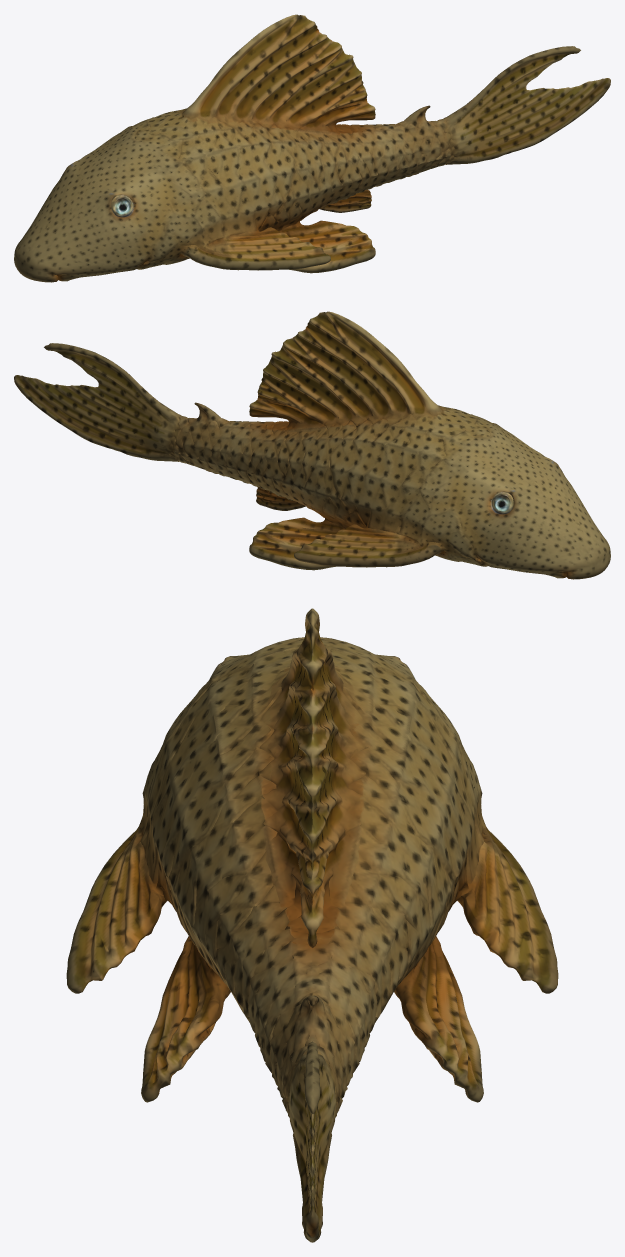
File: n2__pleco.glb
The picture shows the model from 3 angles, top to bottom: view 1: azimuth 30°, elevation 25°; view 2: azimuth 150°, elevation 25°; view 3: azimuth 270°, elevation 25°; orthographic projection. The views are drawn at different scales.
Parts seen in each view (by area): view 1: Object_3, Object_2, Object_4; view 2: Object_3, Object_2, Object_4; view 3: Object_3, Object_2, Object_4.
Boxes of the visible parts, <box> form: Object_3: <box>14,105,452,282</box>; Object_2: <box>184,46,610,273</box>; Object_4: <box>179,14,375,135</box>; Object_3: <box>172,402,610,579</box>; Object_2: <box>14,343,440,570</box>; Object_4: <box>249,311,445,432</box>; Object_3: <box>138,637,486,1115</box>; Object_2: <box>66,823,558,1242</box>; Object_4: <box>261,608,363,947</box>.
Size of the model in its own units: 2.83 by 1.04 by 1.02.
Materials: 1 (1 with a texture image).
